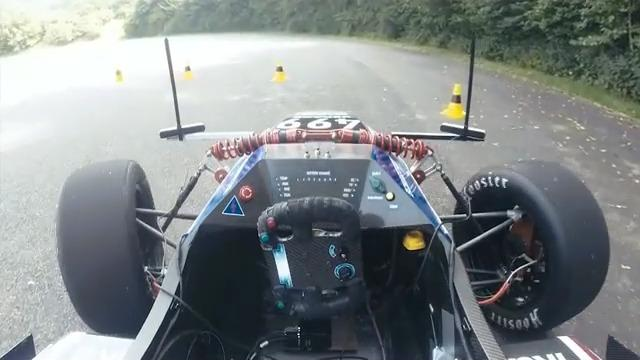yellow_cone: (439, 82, 468, 120), (271, 61, 288, 84), (182, 62, 197, 82)
